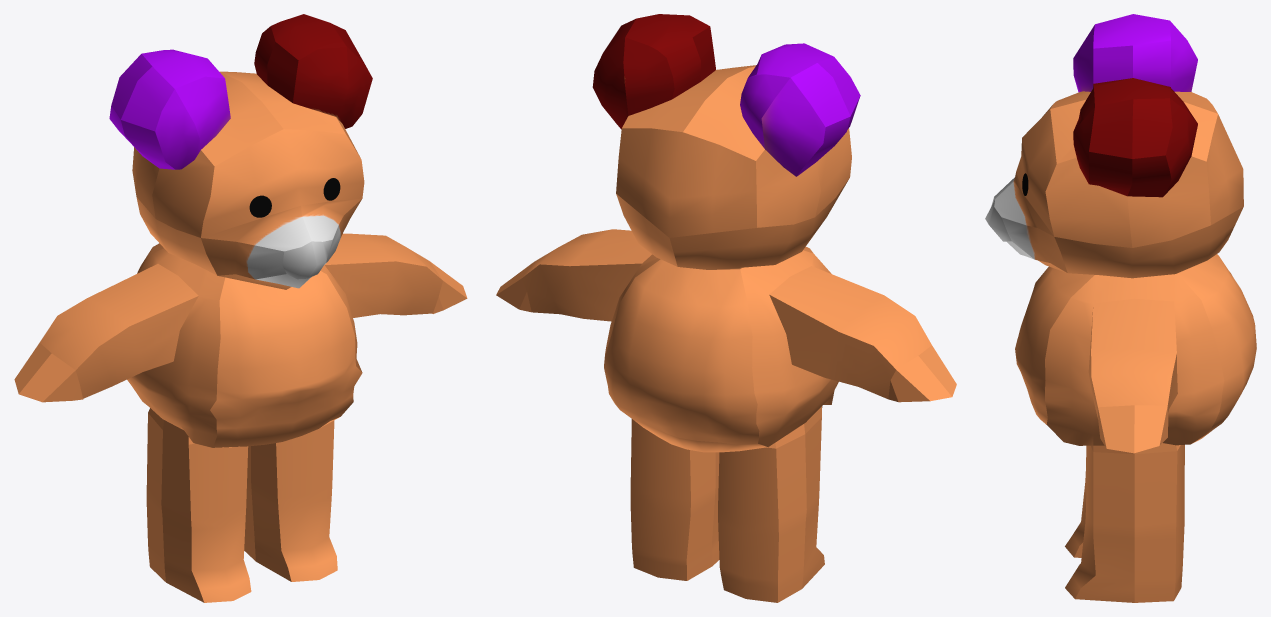
The model's file is UVBearP.fbx.
3 renders of one model, left to right at view 1: azimuth 30°, elevation 25°; view 2: azimuth 150°, elevation 25°; view 3: azimuth 270°, elevation 25°, orthographic. The views are drawn at different scales.
Parts seen in each view (by area): view 1: pCube1, pCylinder1; view 2: pCube1; view 3: pCube1.
Boxes of the visible parts, x1,y1,x2,y2 form: pCube1: (14,14,467,602); pCylinder1: (249,178,340,217); pCube1: (496,14,956,602); pCube1: (985,14,1256,602).
Bounding box in the file's own units: 104 × 118 × 56.25.
4 materials, 1 textured.
